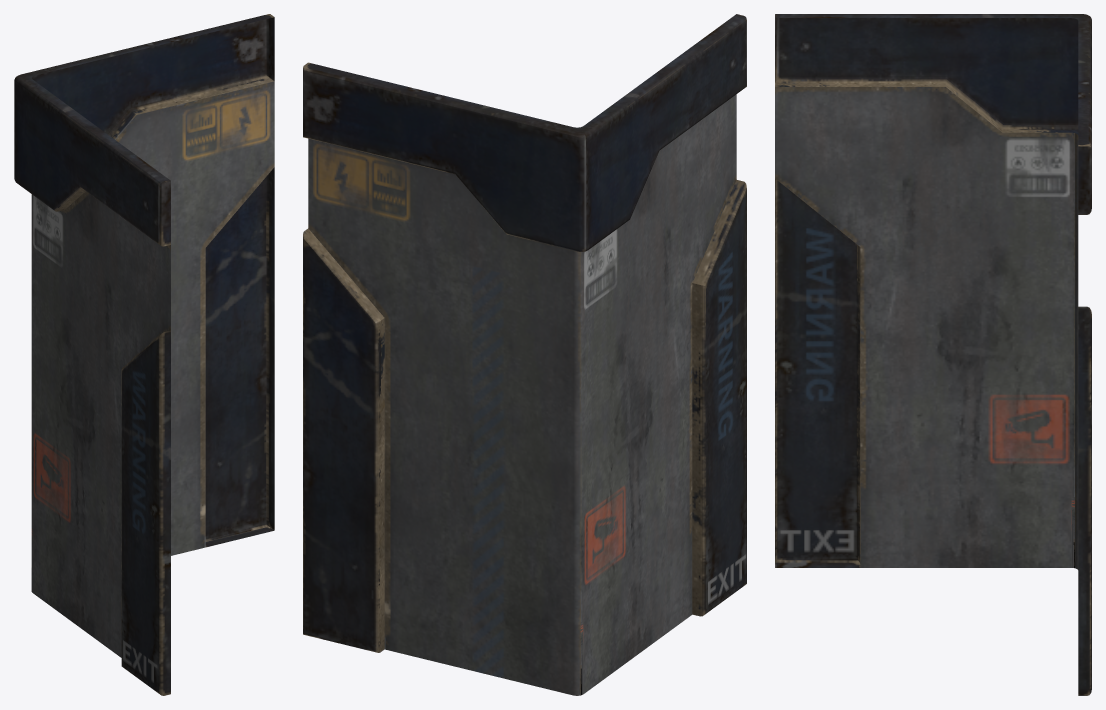
The model's file is SM_Modular_Walls_LP_polySurface3.fbx.
The picture shows the model from 3 angles, left to right: view 1: azimuth 30°, elevation 25°; view 2: azimuth 150°, elevation 25°; view 3: azimuth 270°, elevation 25°; orthographic projection. The views are drawn at different scales.
Visible parts, largest first — view 1: SM_Modular_Walls_LP_polySurface3_LOD0; view 2: SM_Modular_Walls_LP_polySurface3_LOD0; view 3: SM_Modular_Walls_LP_polySurface3_LOD0.
Part boxes in pixels (x1,y1,x2,y2): SM_Modular_Walls_LP_polySurface3_LOD0: [14, 14, 274, 695]; SM_Modular_Walls_LP_polySurface3_LOD0: [303, 14, 746, 695]; SM_Modular_Walls_LP_polySurface3_LOD0: [775, 14, 1091, 695].
Bounding box in the file's own units: 125 × 125 × 240.
Materials: 1 (1 with a texture image).
